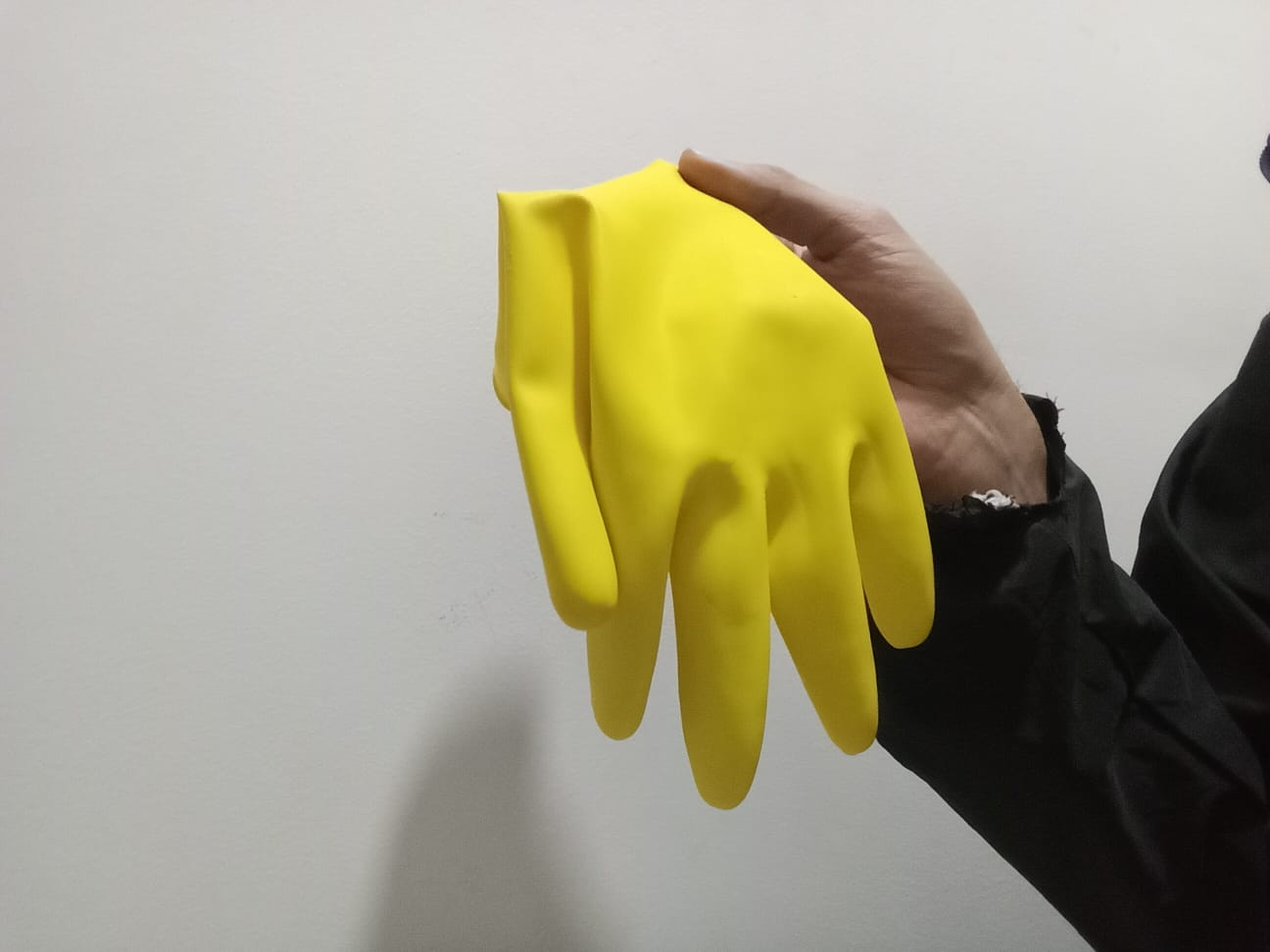Ordinario: (496, 161, 939, 809)
